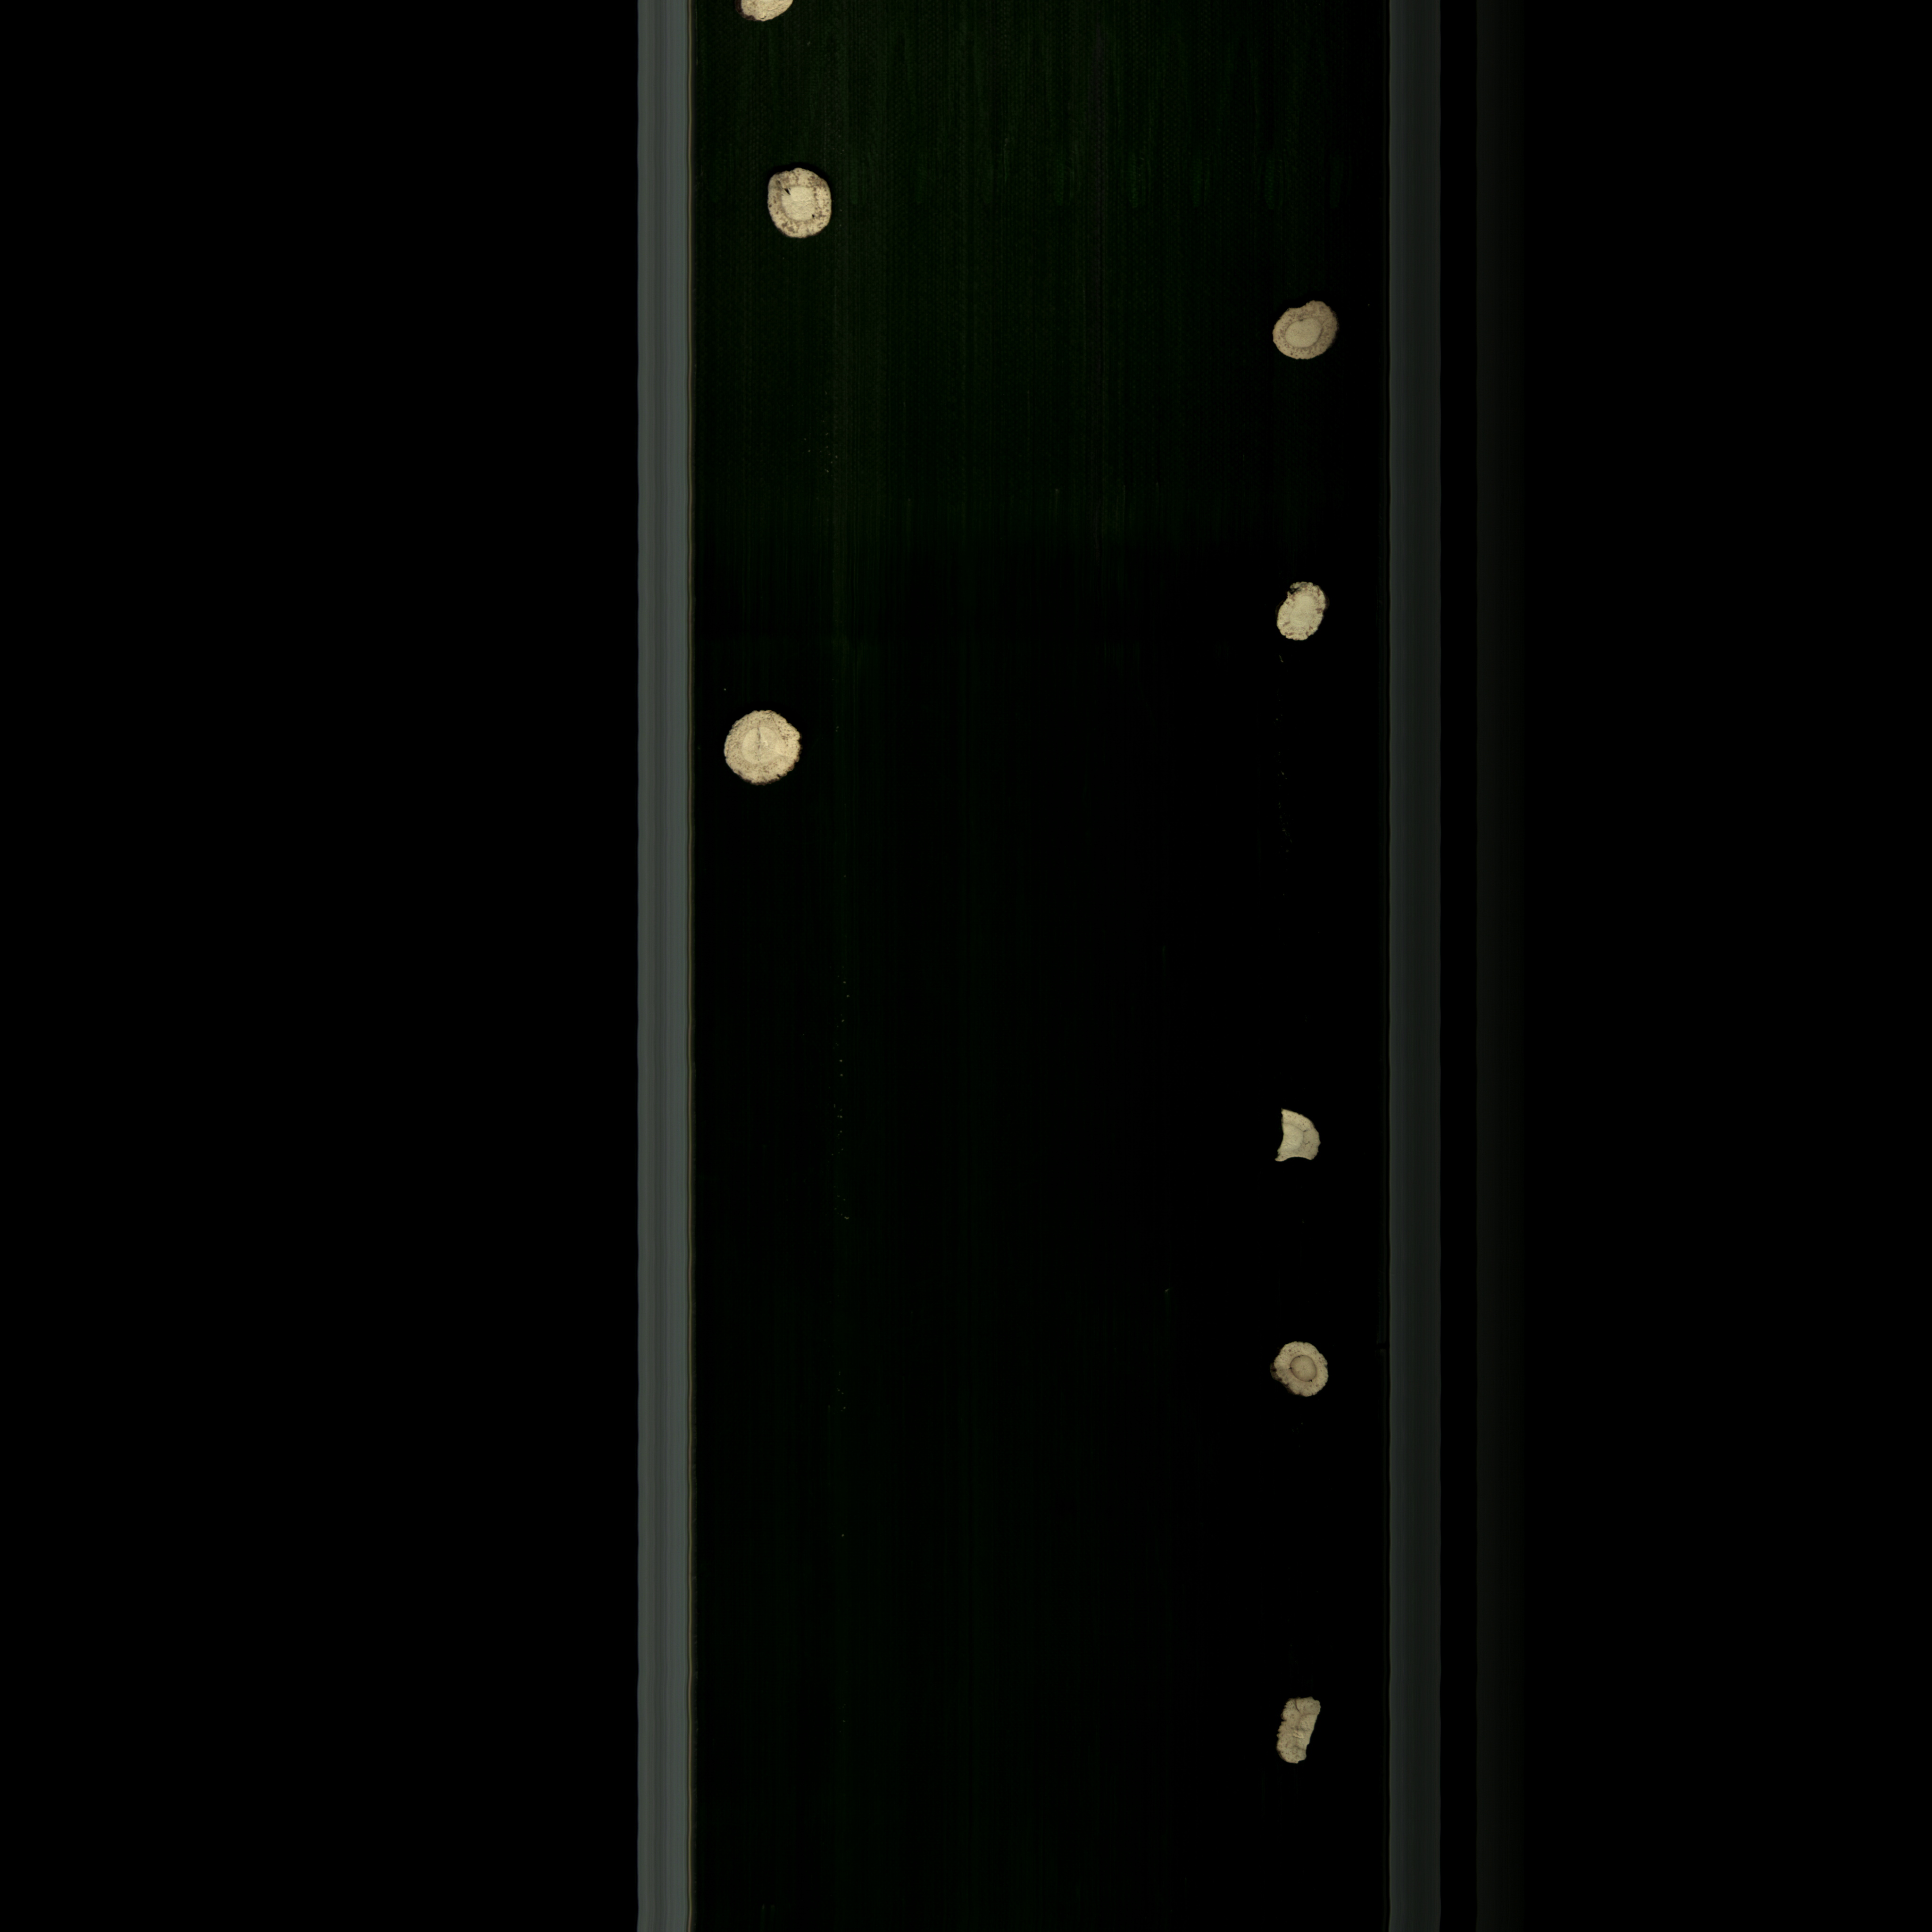debris: (1256, 1683, 1352, 1785)
dreg: (1238, 1092, 1343, 1185)
moldy: (745, 154, 856, 267), (1253, 1315, 1350, 1426), (1261, 568, 1345, 658), (1270, 288, 1339, 380)
